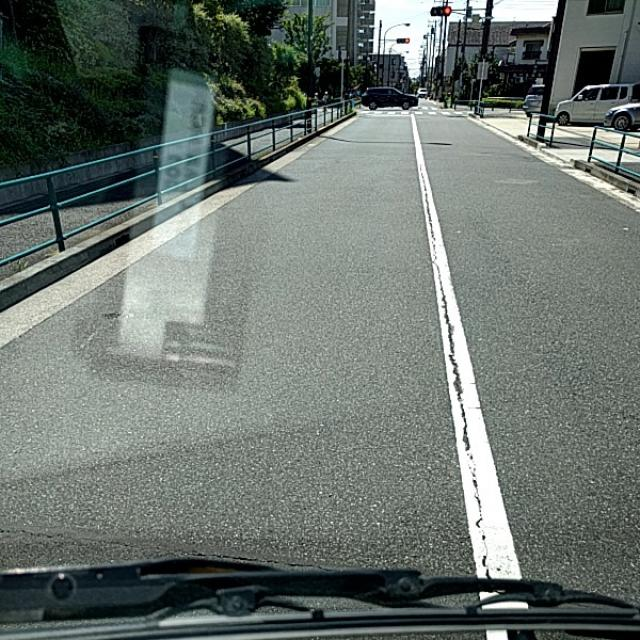pothole: (431, 349, 471, 460)
